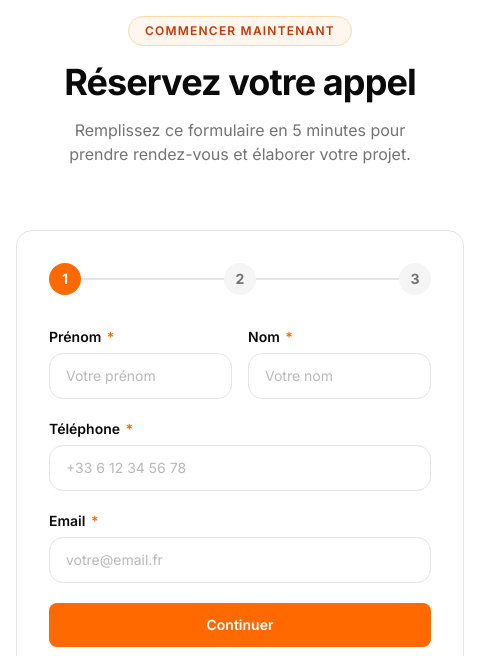
Test: AuditForm › affiche des erreurs si on clique Continuer sans remplir
The width and height of the screenshot is (481, 656).
Click the button with test id "next-btn".
click(240, 625)  # box [49,603,431,647]
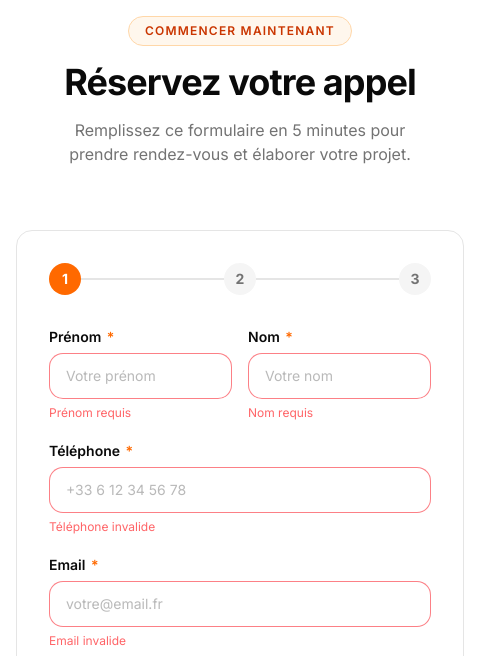
Result: the text "Prénom requis" is shown at [49,405,131,420]
